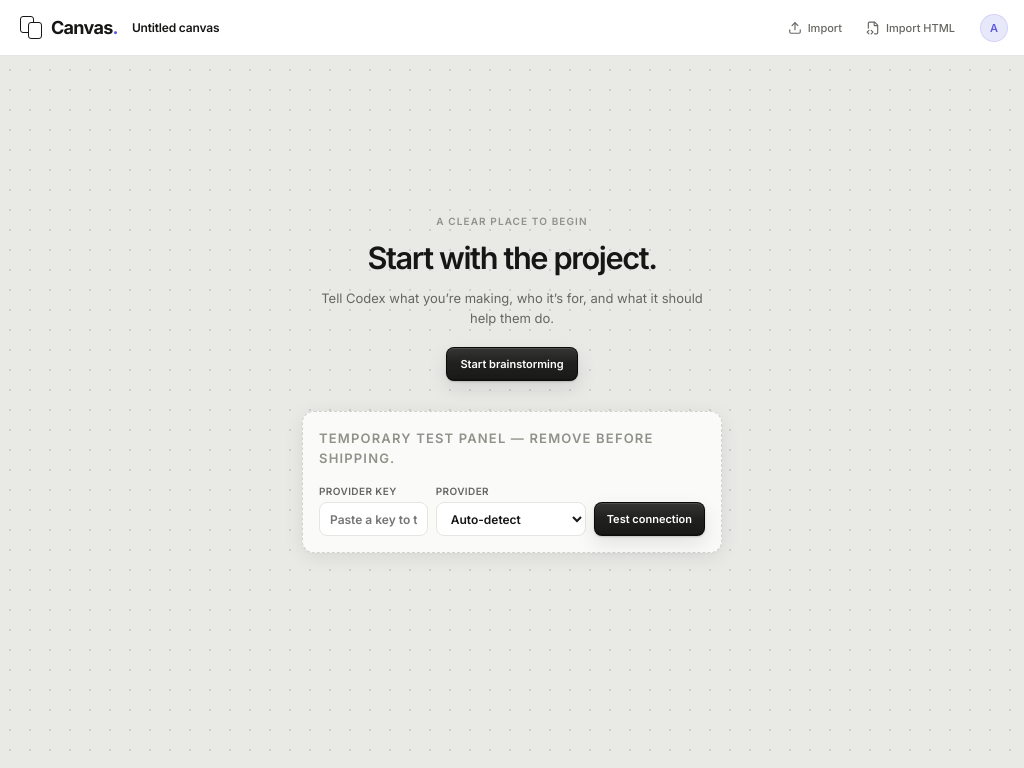
Test: CanvasSurface brainstorming entry › starts with no demo frames and creates the Brief Frame from the empty state
Expected: the element with test id "empty-canvas-state" is shown, [302,215,722,553]
What coordinates should you click on to do the following:
click the button with test id "start-brainstorming"
I would click on:
 (512, 364)
Its box is [446,347,578,381].
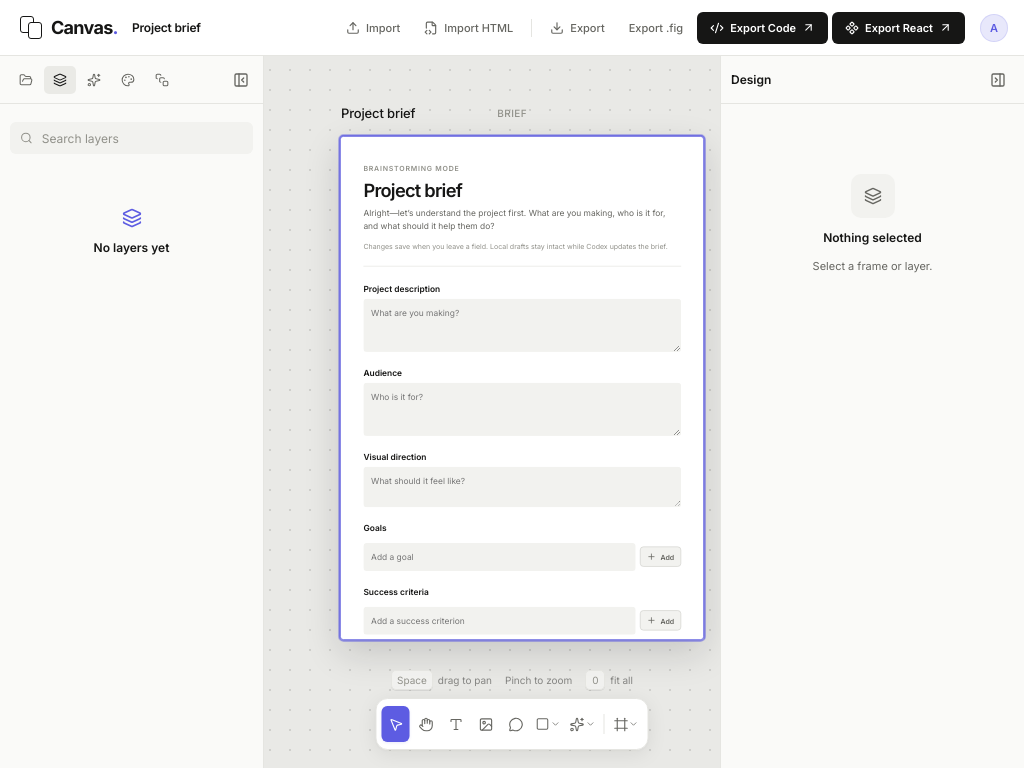
Expected: the element with test id "empty-canvas-state" is gone
Expected: the element with test id "brief-frame" is shown, [340,136,704,640]
Expected: the text with test id "brief-opening-prompt" shows "Alright—let’s understand the project first. What are you making, who is it for, and what should it help them do?", [363,207,665,230]
